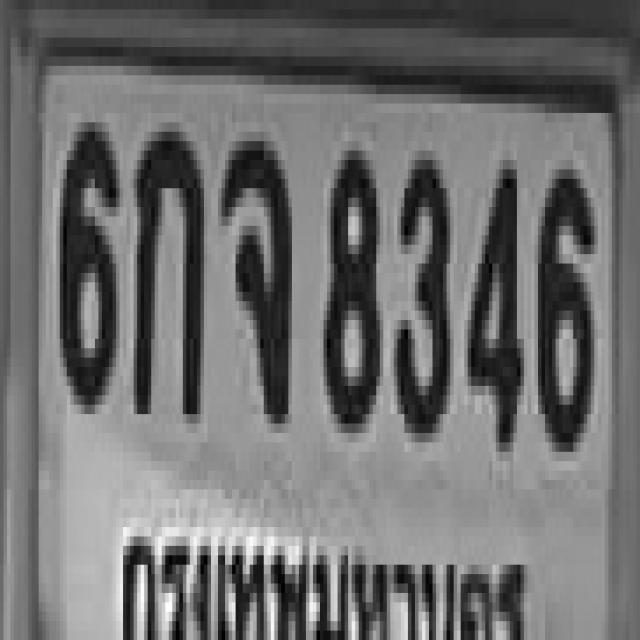10GorGai: (130, 122, 201, 414)
17ChorChan: (218, 132, 288, 414)
3: (390, 151, 447, 433)
4: (464, 150, 521, 442)
6: (56, 113, 116, 405), (534, 160, 591, 442)
8: (320, 141, 376, 424)
